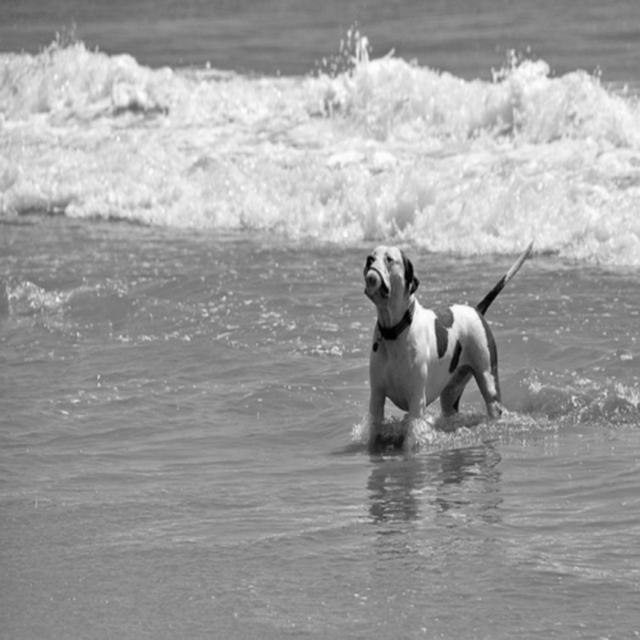dog: (361, 239, 533, 424)
